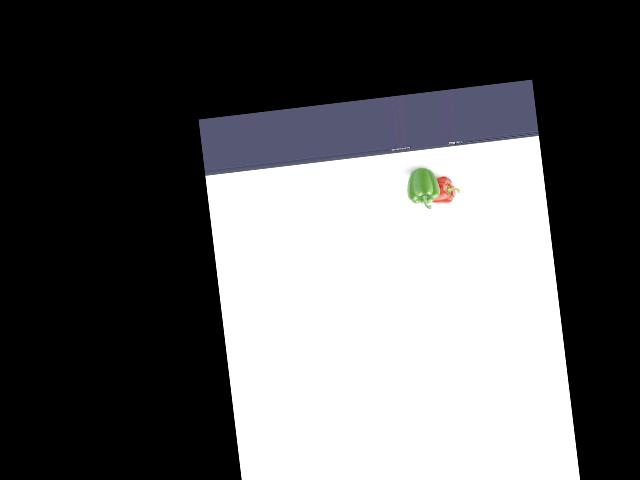bell_pepper: (428, 175, 461, 208)
